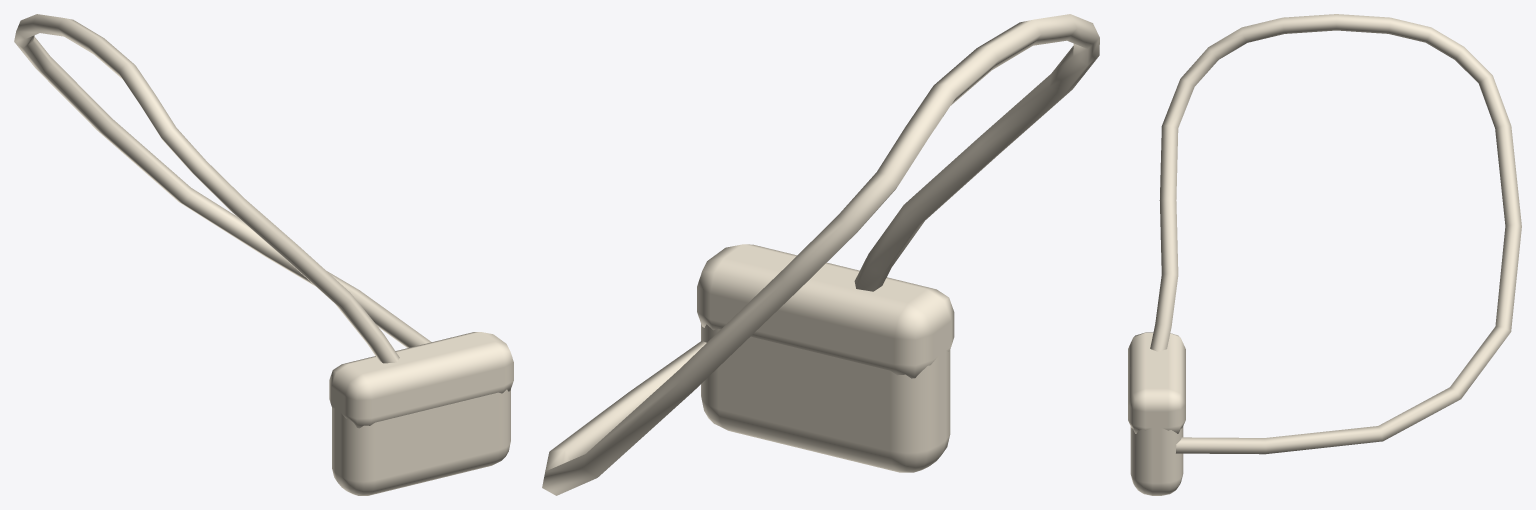
The model's file is cloth_shoulder_bag.glb.
The picture shows the model from 3 angles, left to right: view 1: azimuth 30°, elevation 25°; view 2: azimuth 150°, elevation 25°; view 3: azimuth 270°, elevation 25°; orthographic projection. The views are drawn at different scales.
Visible parts, largest first — view 1: cloth_shoulder_bag_Body; view 2: cloth_shoulder_bag_Body; view 3: cloth_shoulder_bag_Body.
Part boxes in pixels (<box>): cloth_shoulder_bag_Body: <box>14,14,513,495</box>; cloth_shoulder_bag_Body: <box>542,14,1099,495</box>; cloth_shoulder_bag_Body: <box>1128,14,1521,495</box>.
Bounding box in the file's own units: 0.3581 × 0.4541 × 0.4496.
